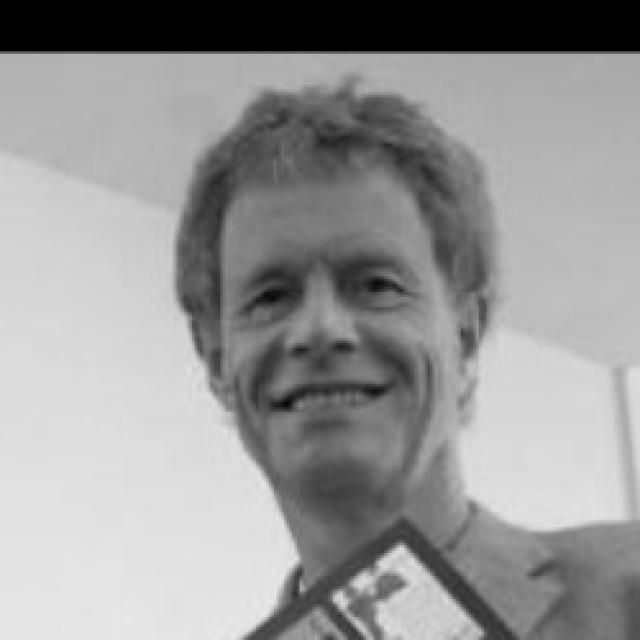real: (218, 158, 456, 498), (234, 250, 420, 327)
